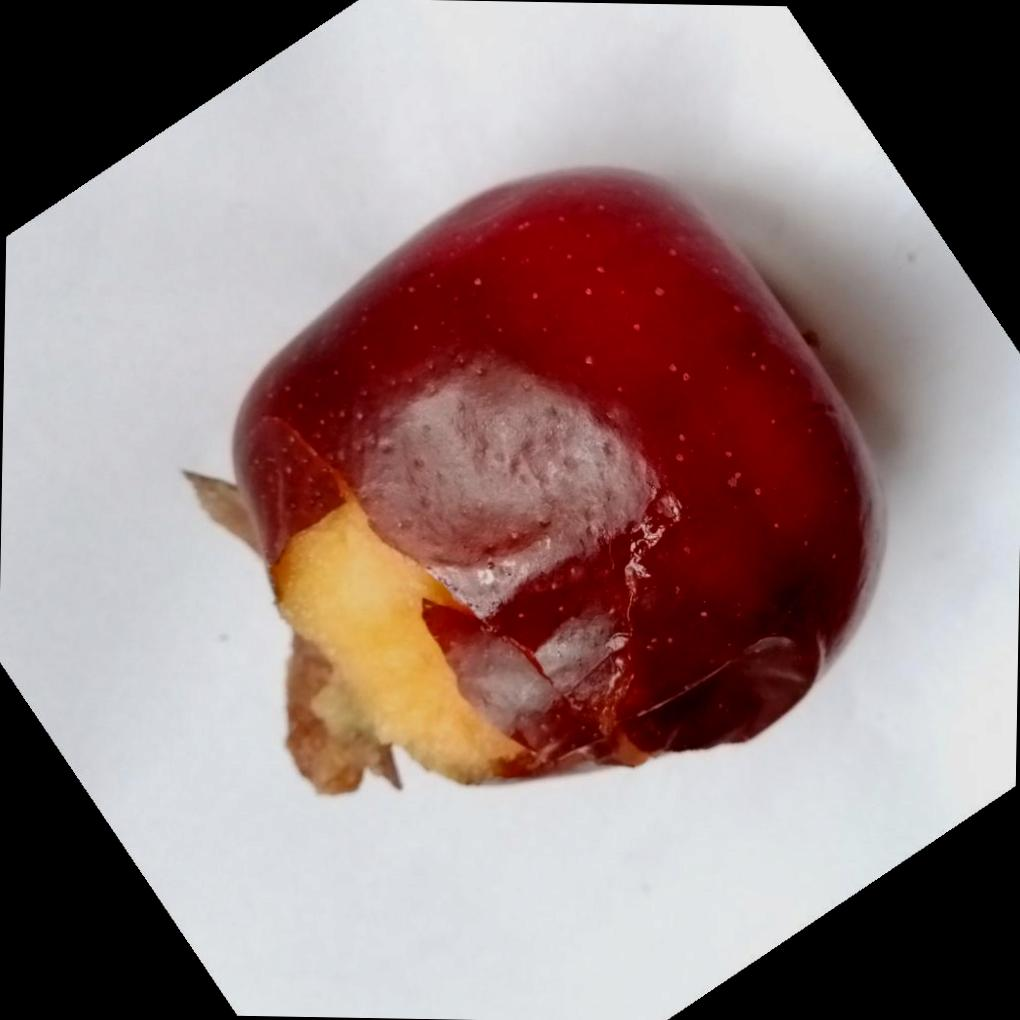FreshOrange: (182, 161, 888, 796)
